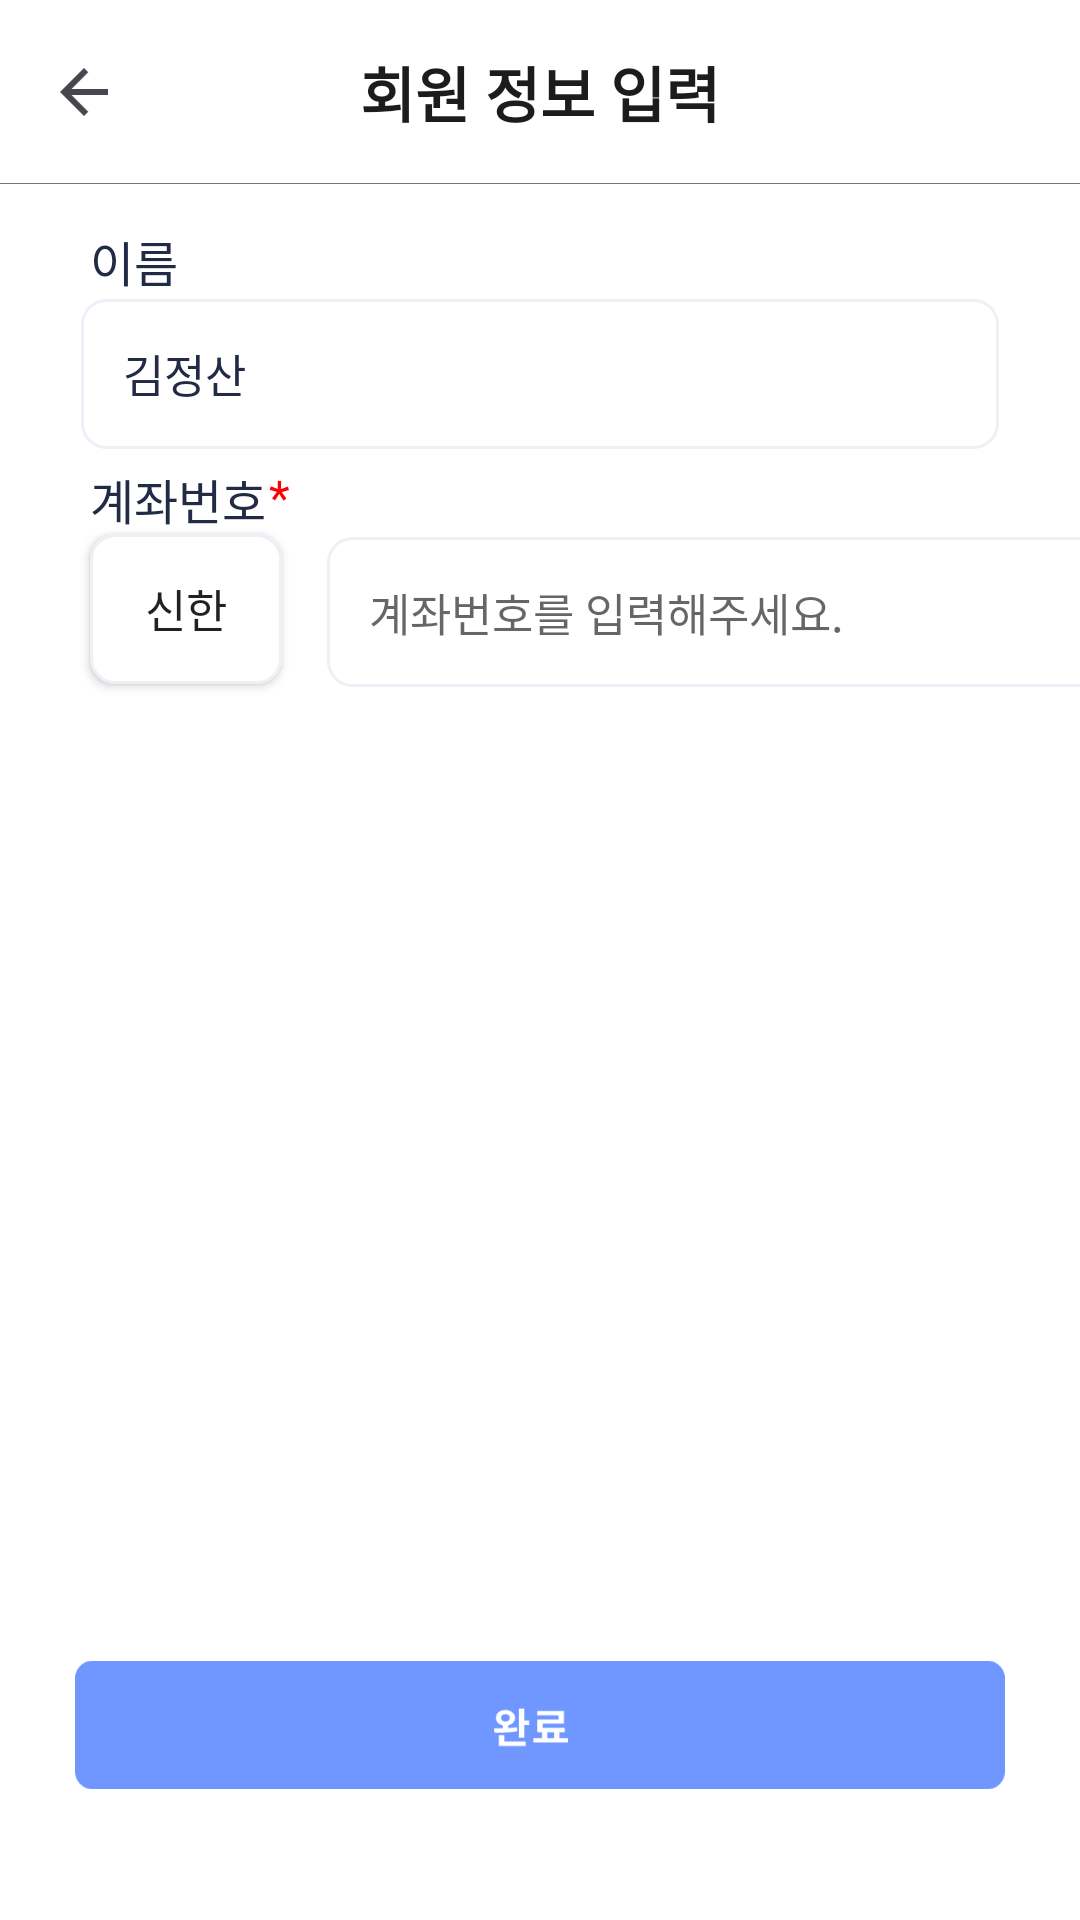

Where icons sit on this 1080*1920 app screen, as [left=x1, top=y1, right=x2, bottom=y2]:
back arrow: [left=60, top=68, right=108, bottom=116]
